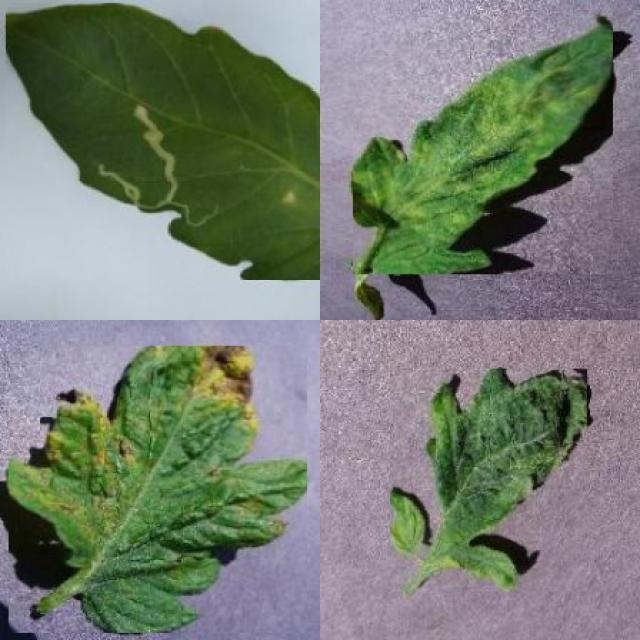Leaf Miner: (6, 2, 320, 280)
Leaf Mold: (353, 15, 613, 275)
Mosaic Virus: (390, 368, 587, 592)
Septoria: (9, 346, 307, 633)
